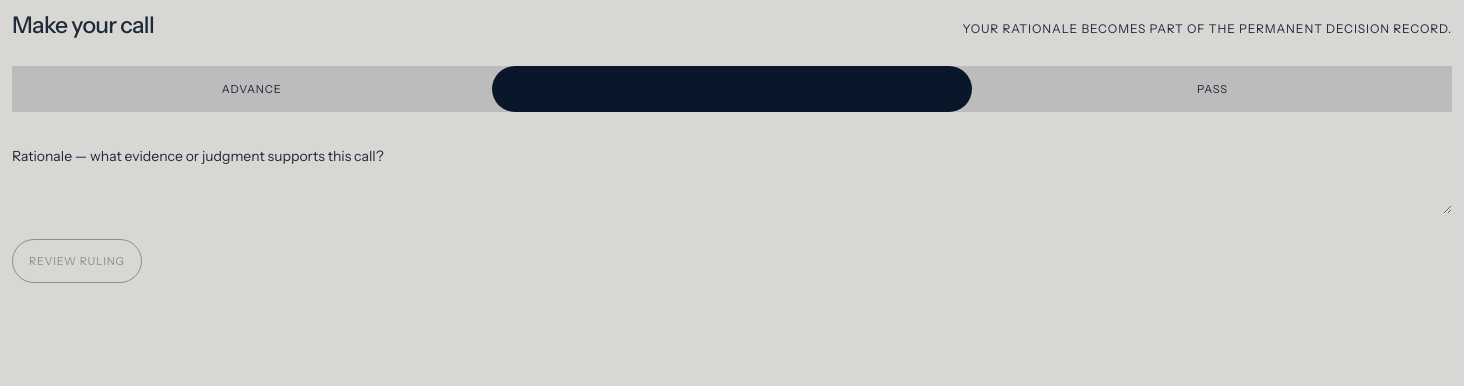
it: HumanRulingComposer › asks for override attribution on a true recommendation disagreement
Click the button "Pass": [1212, 89] box [973, 66, 1452, 112]
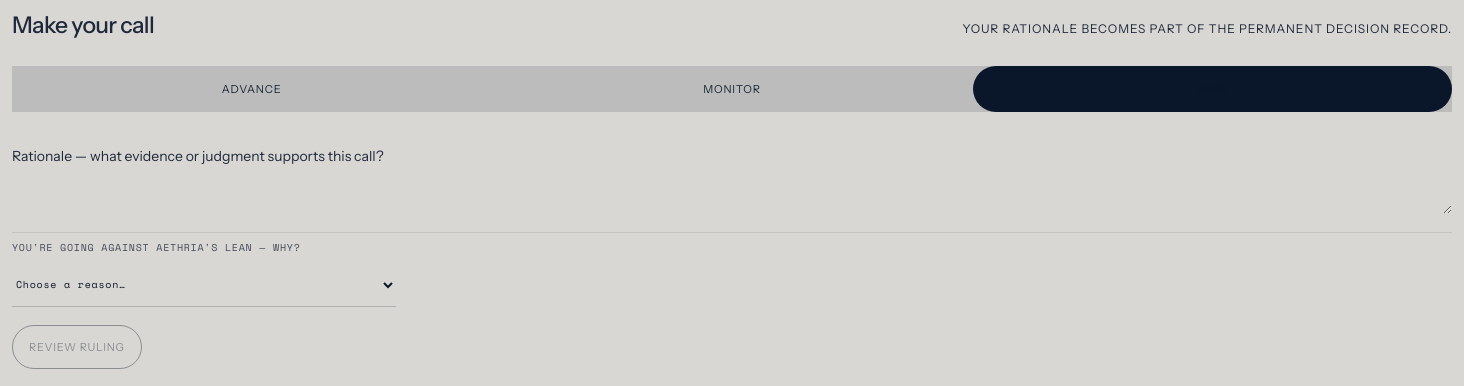
Expected: the dropdown named "Override attribution" is shown, [12, 263, 396, 307]
